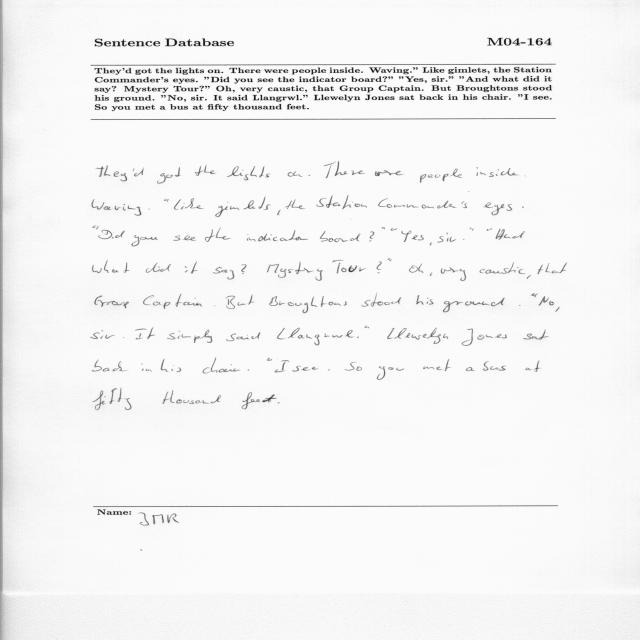word: (269, 296, 347, 313), (277, 328, 354, 345), (135, 327, 212, 343), (215, 196, 271, 217), (267, 262, 323, 281), (387, 328, 448, 344), (443, 298, 505, 313), (378, 199, 467, 209), (143, 294, 202, 309), (93, 388, 131, 410), (92, 199, 141, 216), (163, 390, 221, 404), (462, 328, 507, 346), (316, 196, 367, 210), (324, 162, 365, 179), (247, 231, 308, 242), (227, 166, 270, 181), (242, 392, 277, 409), (420, 169, 462, 183), (203, 358, 241, 373), (480, 262, 525, 274), (361, 294, 401, 307), (93, 260, 130, 273), (97, 166, 127, 182), (320, 231, 361, 242), (332, 260, 366, 273), (226, 294, 255, 309), (92, 360, 127, 372), (157, 167, 181, 184), (95, 296, 129, 308), (377, 366, 404, 380), (483, 203, 512, 216), (205, 228, 231, 242), (441, 267, 466, 281), (174, 198, 203, 210), (423, 360, 451, 372), (495, 229, 525, 240), (537, 263, 567, 274), (226, 332, 260, 341), (131, 235, 158, 246), (523, 329, 549, 340), (161, 359, 181, 372), (401, 231, 424, 242), (195, 164, 216, 176), (213, 267, 234, 279), (146, 263, 171, 273), (98, 230, 125, 239), (477, 167, 500, 177), (483, 361, 506, 371), (91, 330, 115, 339), (285, 199, 305, 209), (438, 233, 457, 243), (275, 360, 289, 373), (416, 295, 434, 305), (375, 170, 404, 176), (526, 361, 541, 372), (344, 362, 362, 371), (185, 262, 198, 274), (292, 366, 318, 372), (539, 296, 554, 306), (500, 168, 518, 176), (173, 235, 196, 241), (409, 264, 424, 273), (133, 168, 144, 177), (288, 171, 303, 177), (141, 364, 152, 372), (376, 262, 382, 274), (241, 264, 247, 274), (369, 231, 374, 242), (466, 367, 475, 371), (93, 226, 99, 230), (531, 294, 538, 297), (164, 198, 169, 202), (556, 307, 560, 312), (391, 228, 397, 231), (527, 275, 531, 279), (278, 210, 281, 215), (469, 228, 474, 231), (487, 228, 492, 231), (267, 358, 272, 361), (430, 272, 433, 276), (387, 259, 392, 261), (364, 326, 369, 328), (382, 227, 385, 229), (430, 243, 432, 246), (522, 206, 524, 208), (248, 369, 250, 371), (328, 369, 330, 371), (308, 175, 310, 176), (148, 209, 150, 210), (357, 337, 359, 338), (278, 403, 280, 404), (463, 239, 464, 240), (214, 306, 215, 307), (519, 305, 520, 306), (123, 337, 124, 338)
